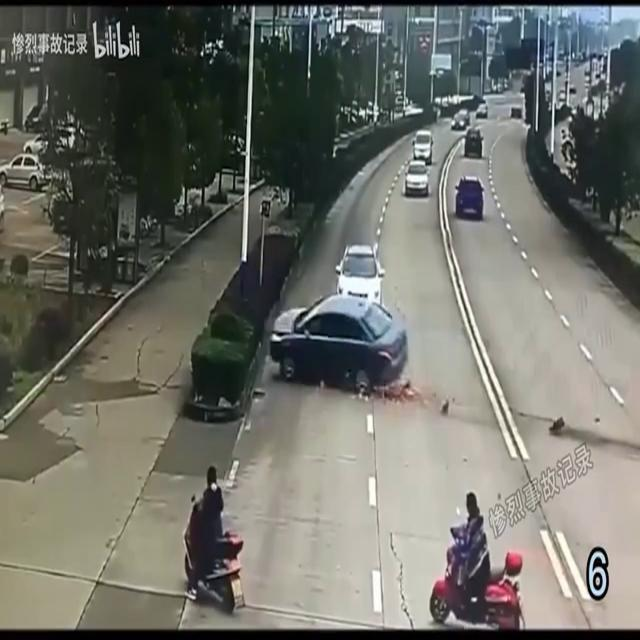multiple_accident: (268, 222, 423, 415)
